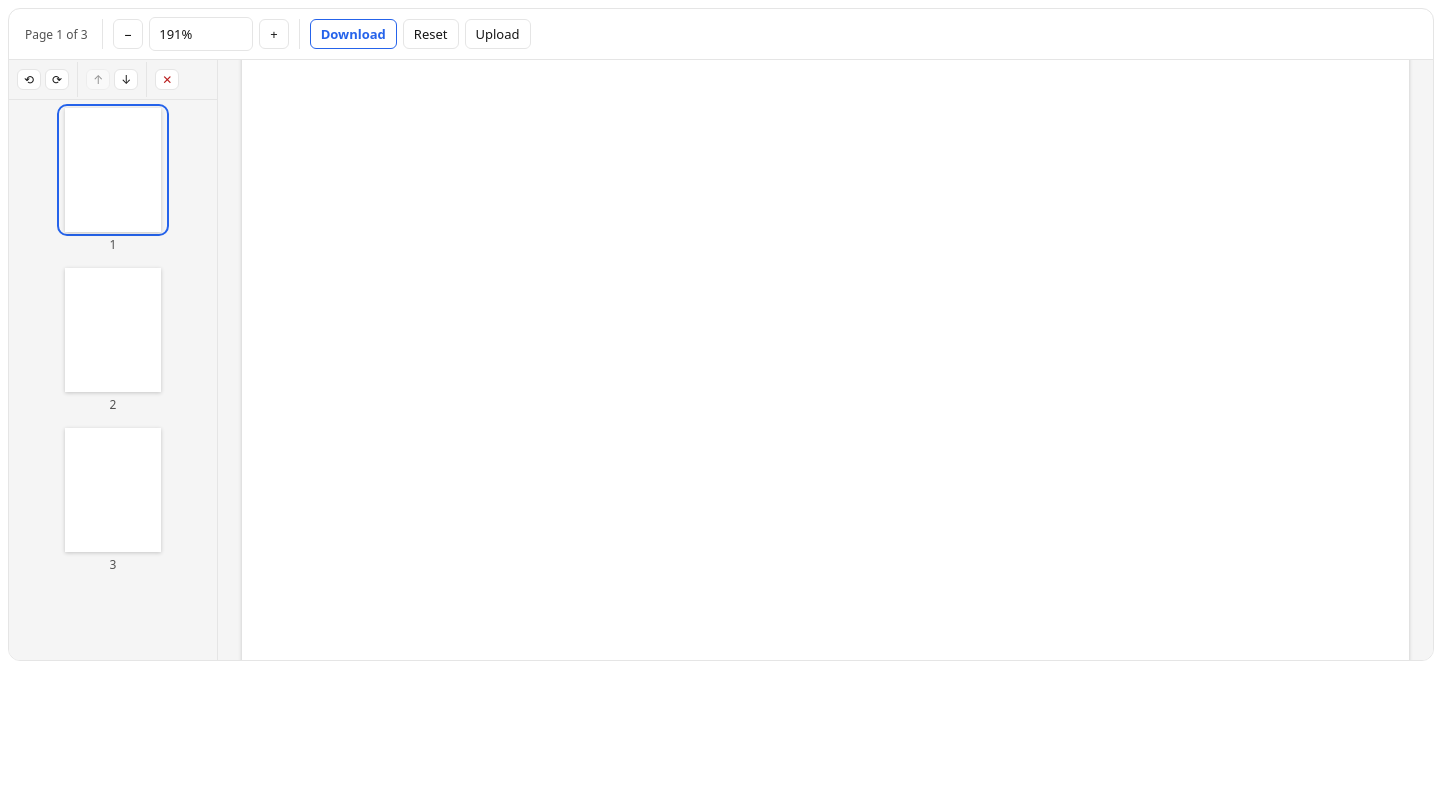
PdfEditor › deletes the selected page after confirmation and updates the indicator
(page scrolled)
Check: the text "Page 1 of 3" is shown, box top-left (21, 26), bottom-right (92, 42)
Click the option named "Page 2": (113, 340) top-left (65, 268), bottom-right (161, 413)
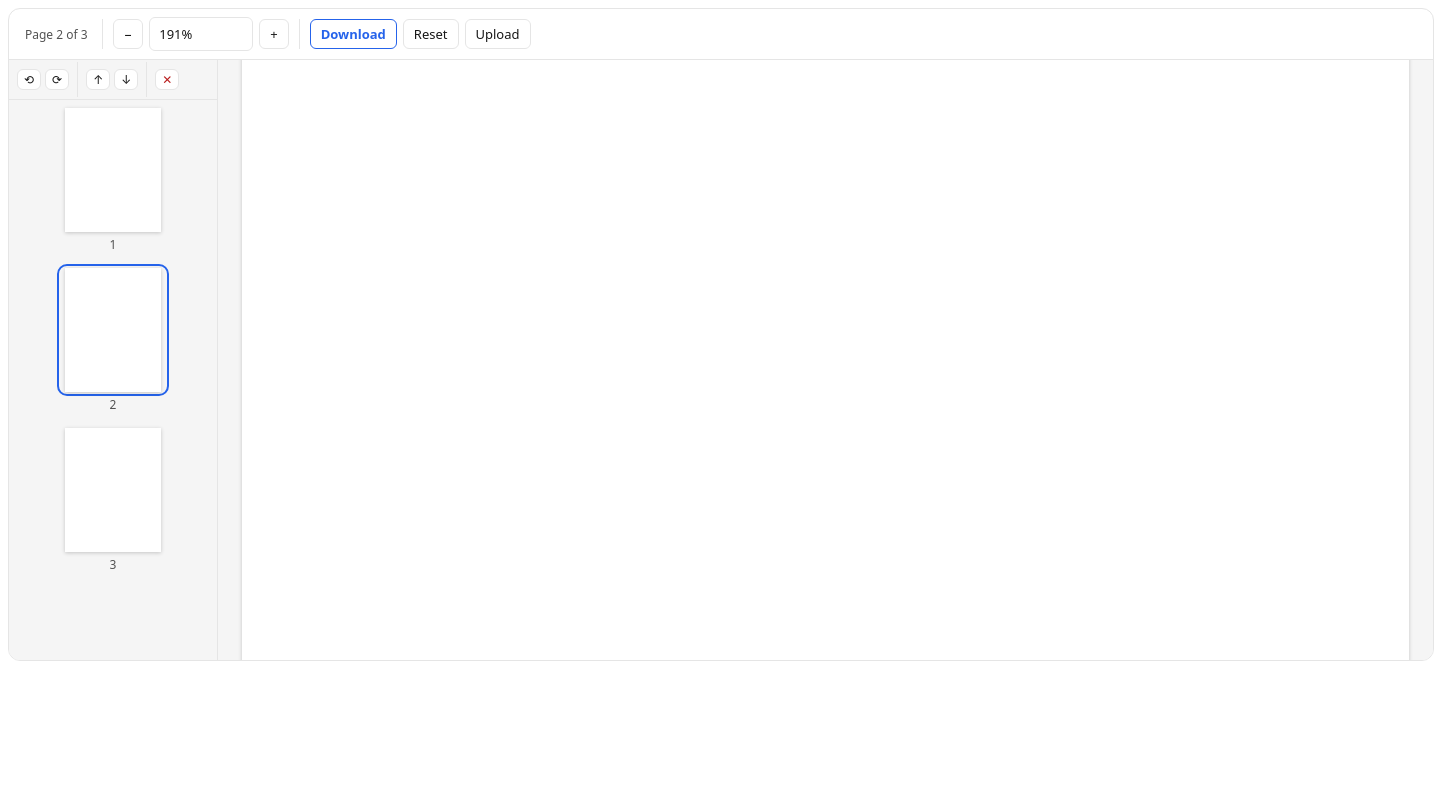
Click the button named "Delete pages": (167, 80) top-left (155, 69), bottom-right (179, 90)
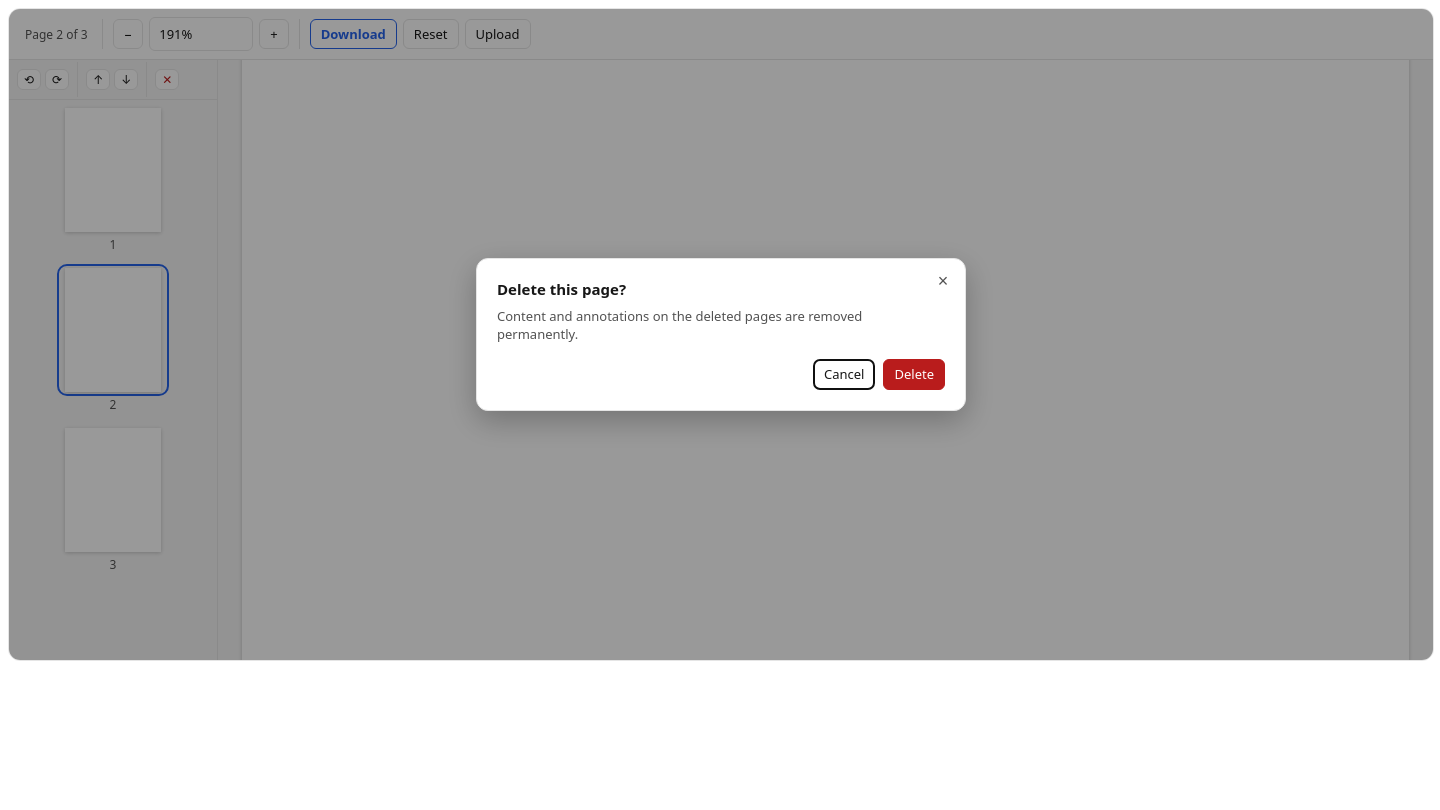
Click the button "Delete": (914, 375) top-left (884, 359), bottom-right (945, 390)
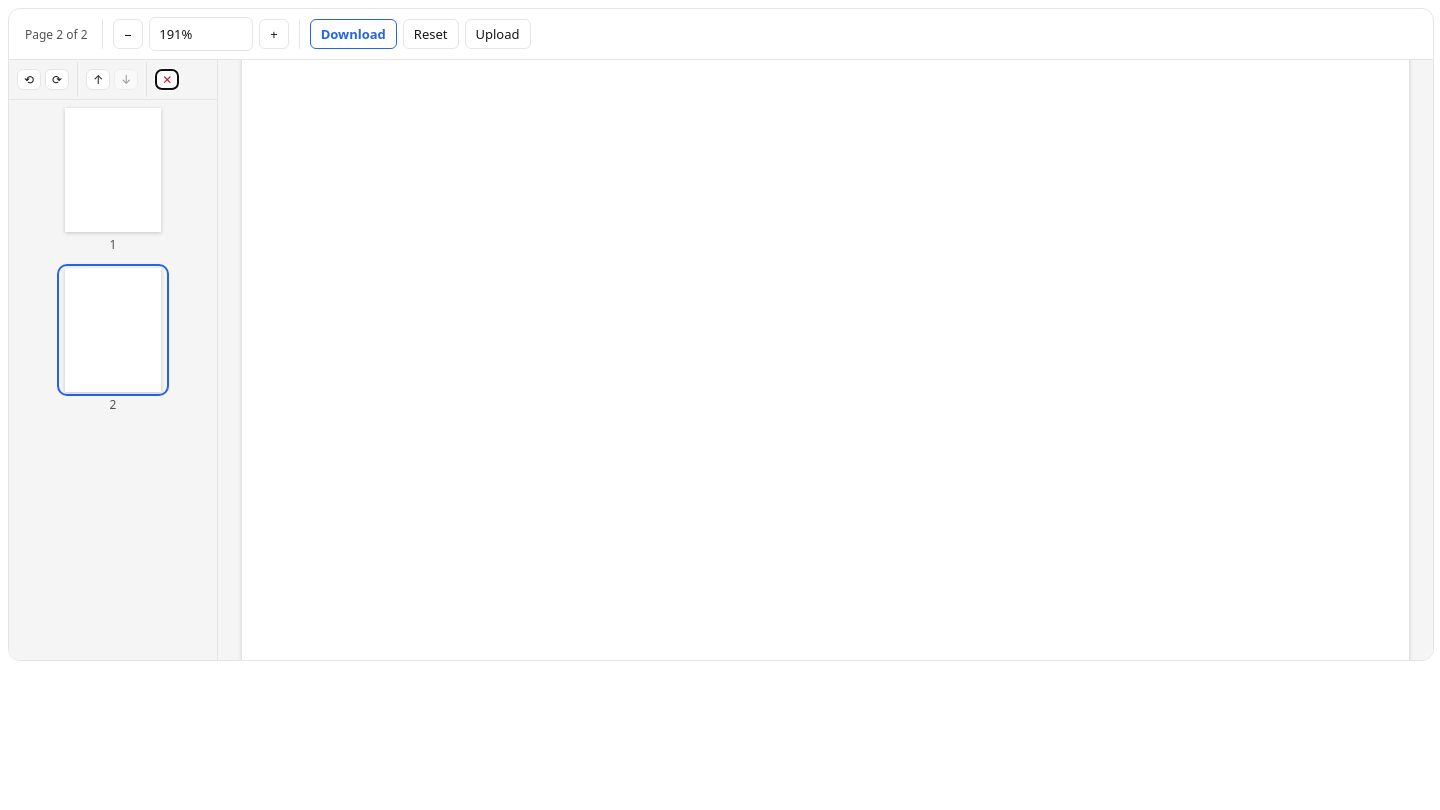
Check: the text with test id "pdf-editor-page-indicator" reads "Page 2 of 2", box top-left (25, 26), bottom-right (88, 42)
